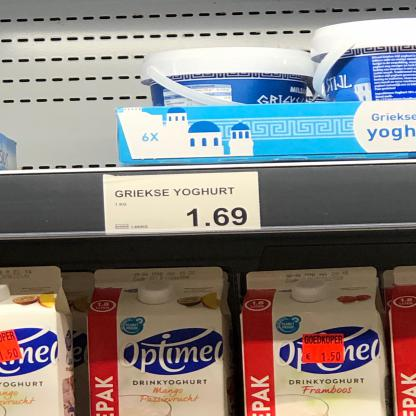prtg: (104, 173, 262, 235)
